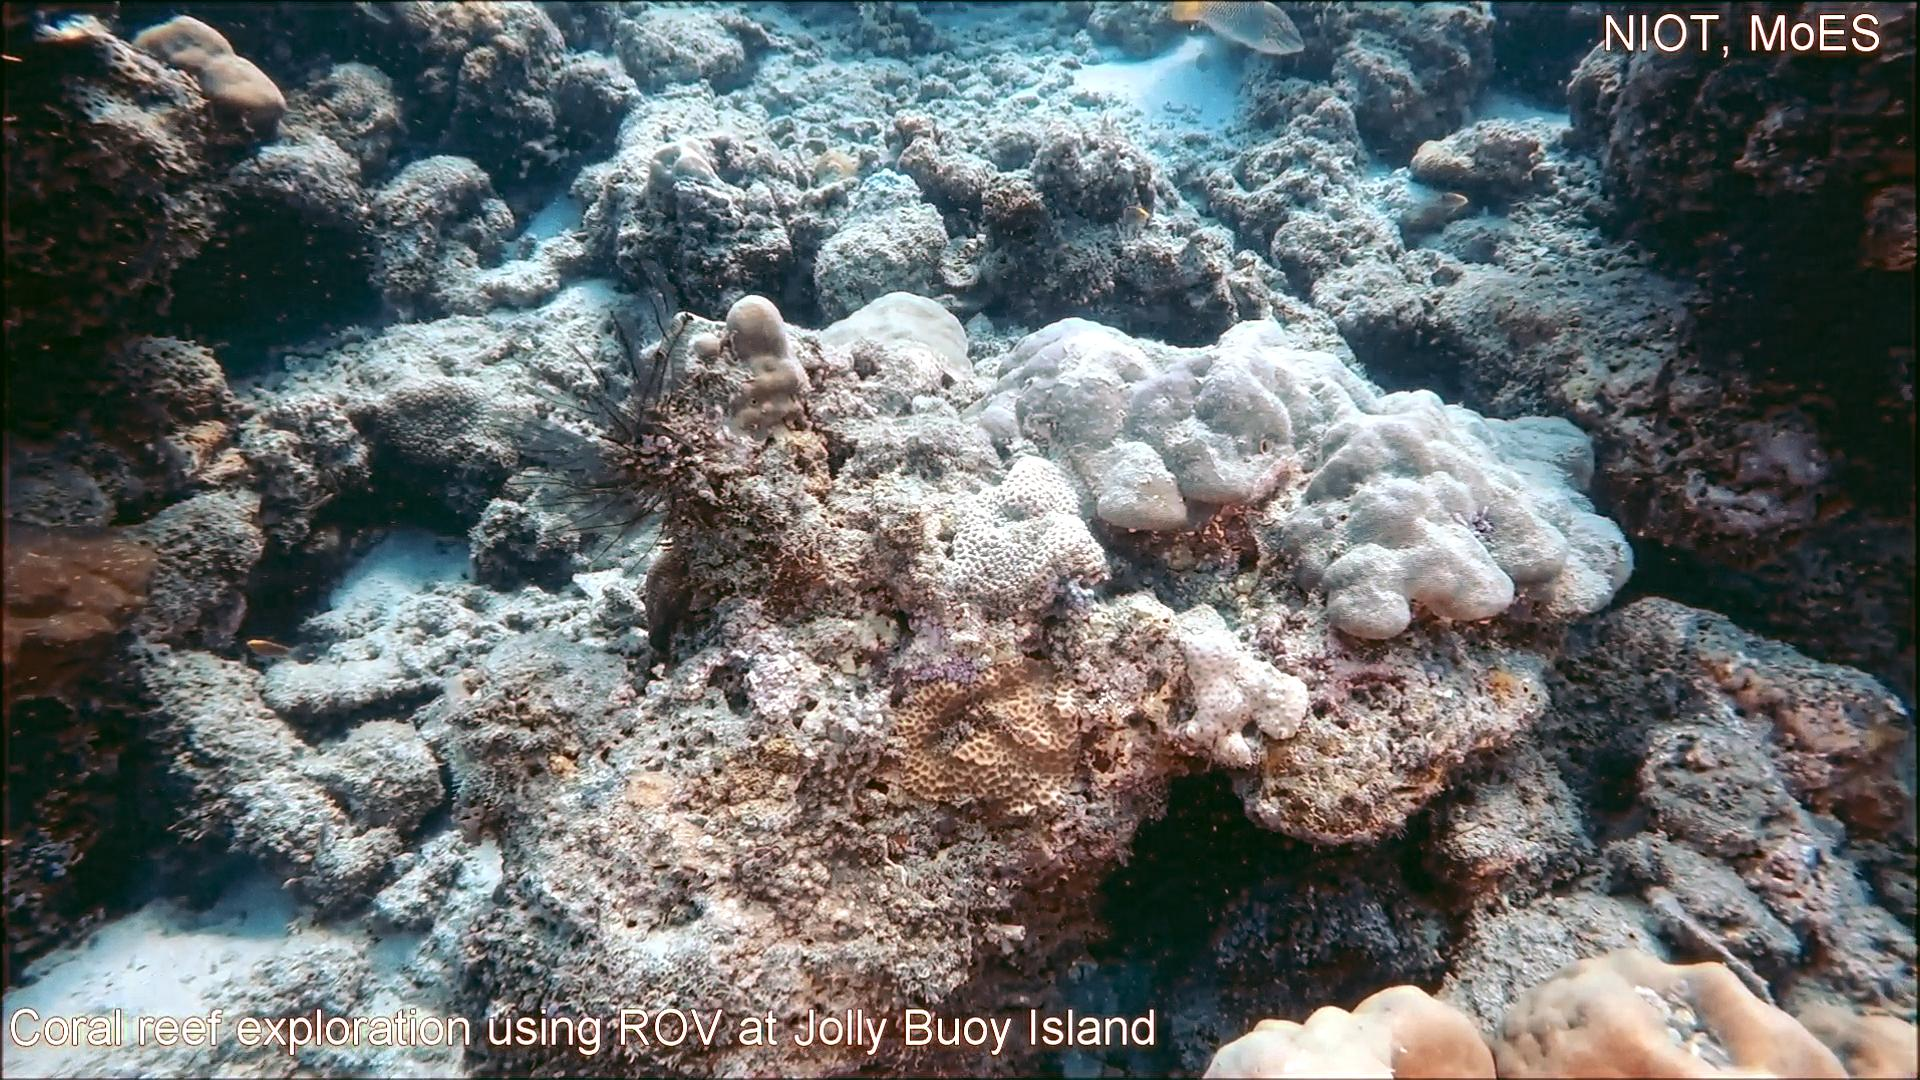Feather star-Crinoid star: (477, 281, 699, 572)
Goniastrea-Goniastrea pectinata: (944, 448, 1122, 626)
Porites-Porites pukoensis: (1189, 314, 1638, 647)
Turbinaria-Turbinaria stellulata: (367, 367, 530, 484)
